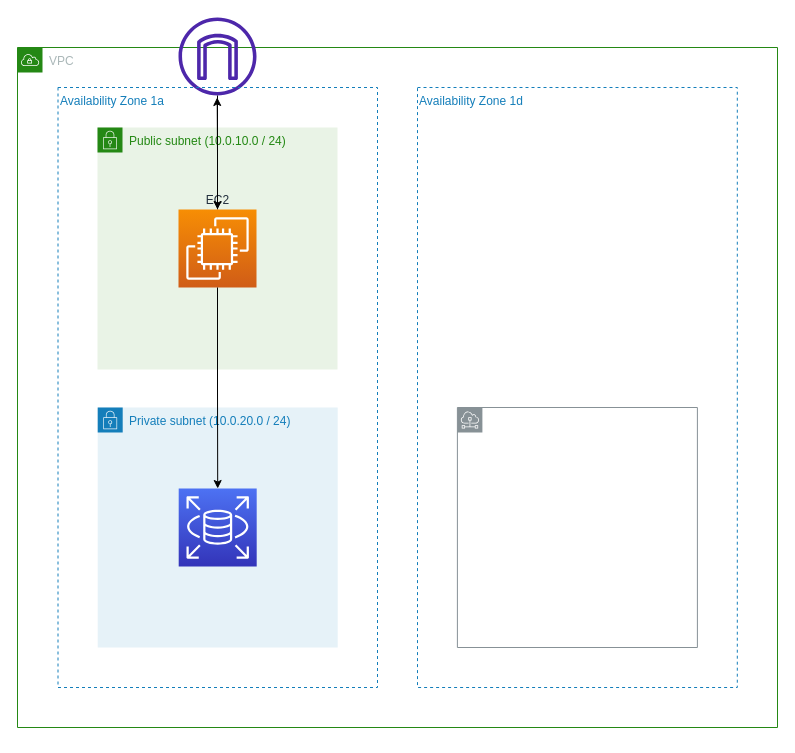
Image size: 795x753. Some labels were removed from this diagram. Here are the shapes that lost their labels. From the top down, the centre of each, then its label:
[217,56]: IGW
[217,527]: RDS
[576,527]: Subnet (10.0.0.0 / 24)
